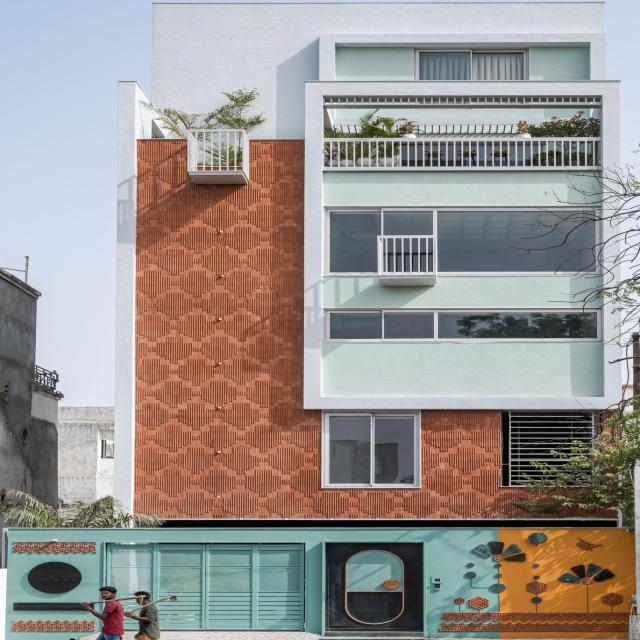door: (101, 542, 306, 633), (324, 540, 425, 640)
railing: (321, 138, 597, 167), (189, 129, 246, 173), (377, 237, 438, 275)
window: (326, 207, 602, 273), (324, 309, 605, 342), (323, 413, 422, 491), (415, 50, 532, 81)
